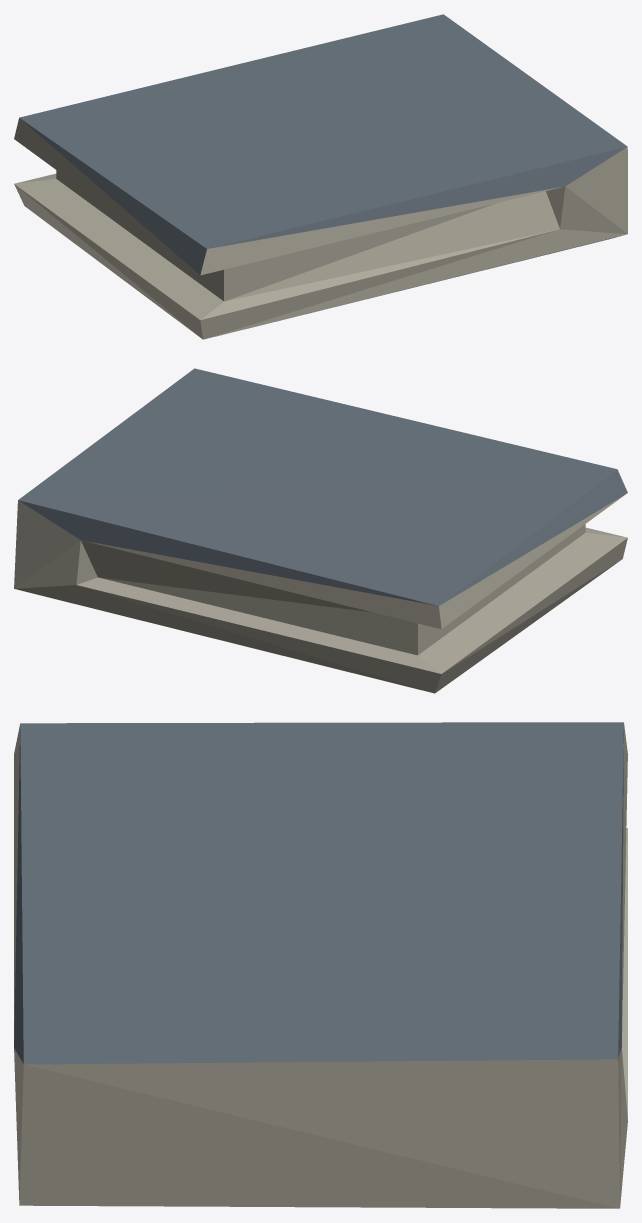
File: tiny_book.glb
3 renders of one model, top to bottom at view 1: azimuth 30°, elevation 25°; view 2: azimuth 150°, elevation 25°; view 3: azimuth 270°, elevation 25°, orthographic. The views are drawn at different scales.
Parts seen in each view (by area): view 1: tiny_book; view 2: tiny_book; view 3: tiny_book.
Boxes of the visible parts, <box> form: tiny_book: <box>14,14,627,339</box>; tiny_book: <box>14,368,627,693</box>; tiny_book: <box>14,722,627,1208</box>.
Bounding box in the file's own units: 0.12 × 0.025 × 0.09.
